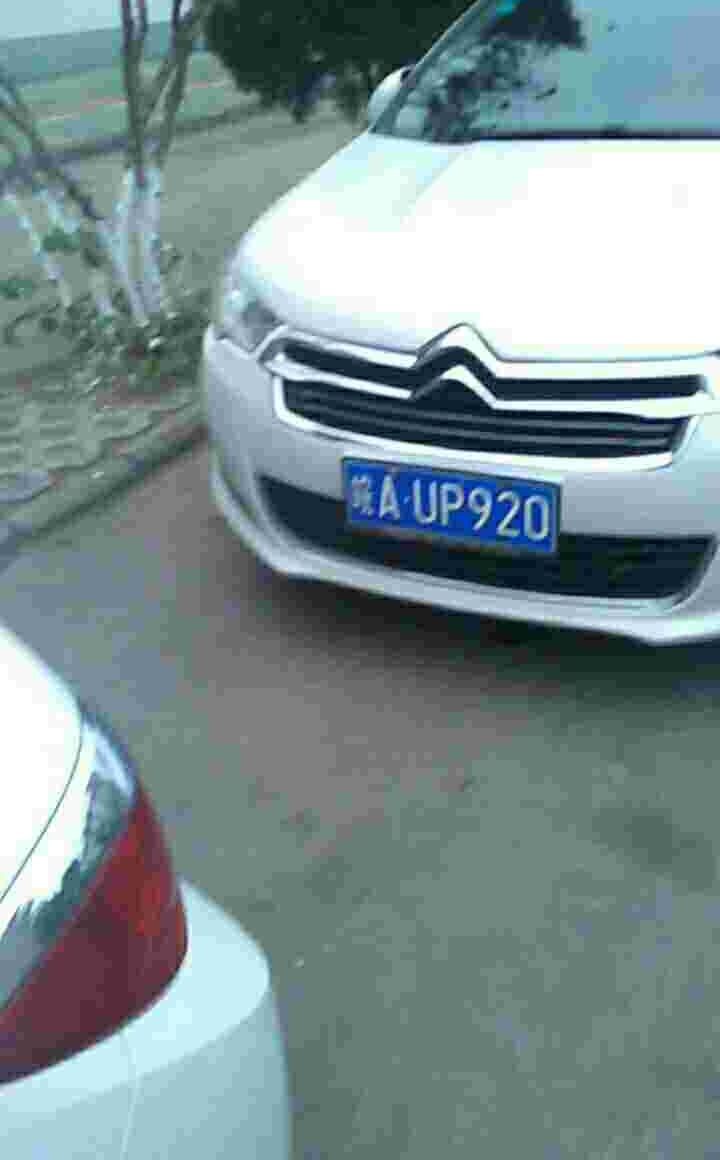plate: (344, 455, 559, 557)
